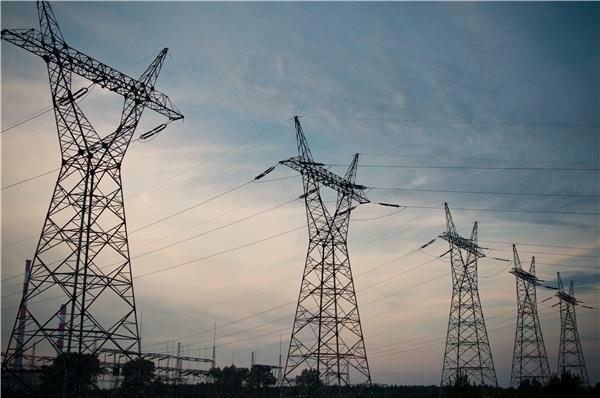power_tower: (0, 1, 191, 371), (270, 104, 384, 393), (426, 199, 500, 390), (503, 244, 547, 388), (552, 270, 597, 385)
